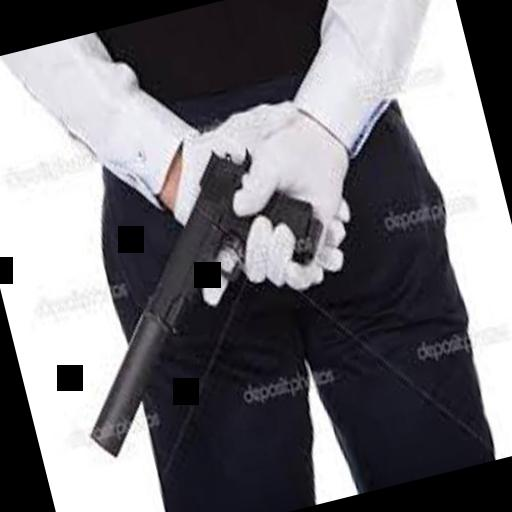Handgun: (26, 128, 362, 460)
